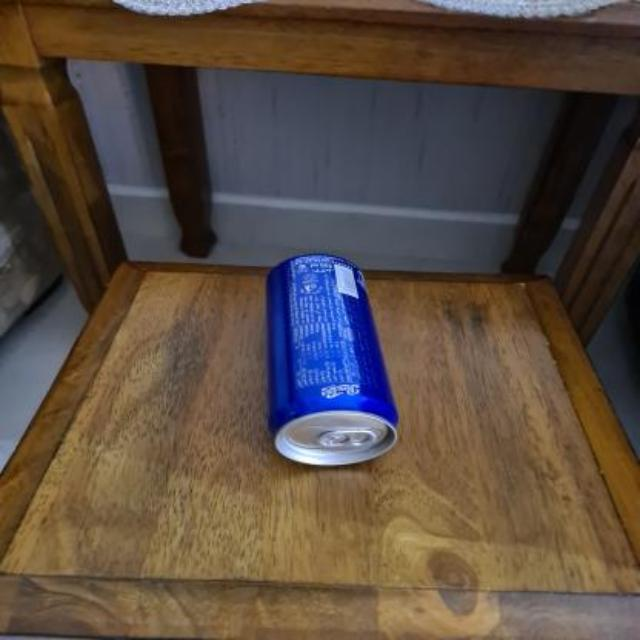metal: (265, 252, 395, 463)
